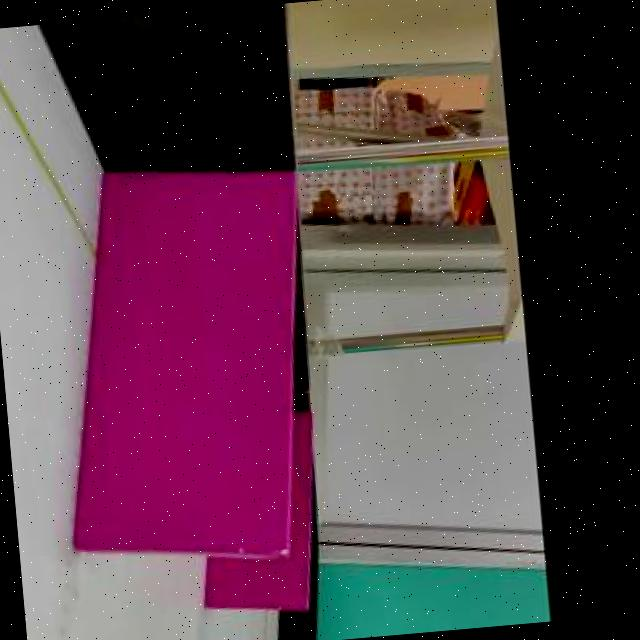xparking: (73, 172, 293, 553), (203, 557, 308, 608)
